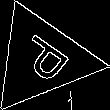P_SE: (8, 29, 75, 89)
